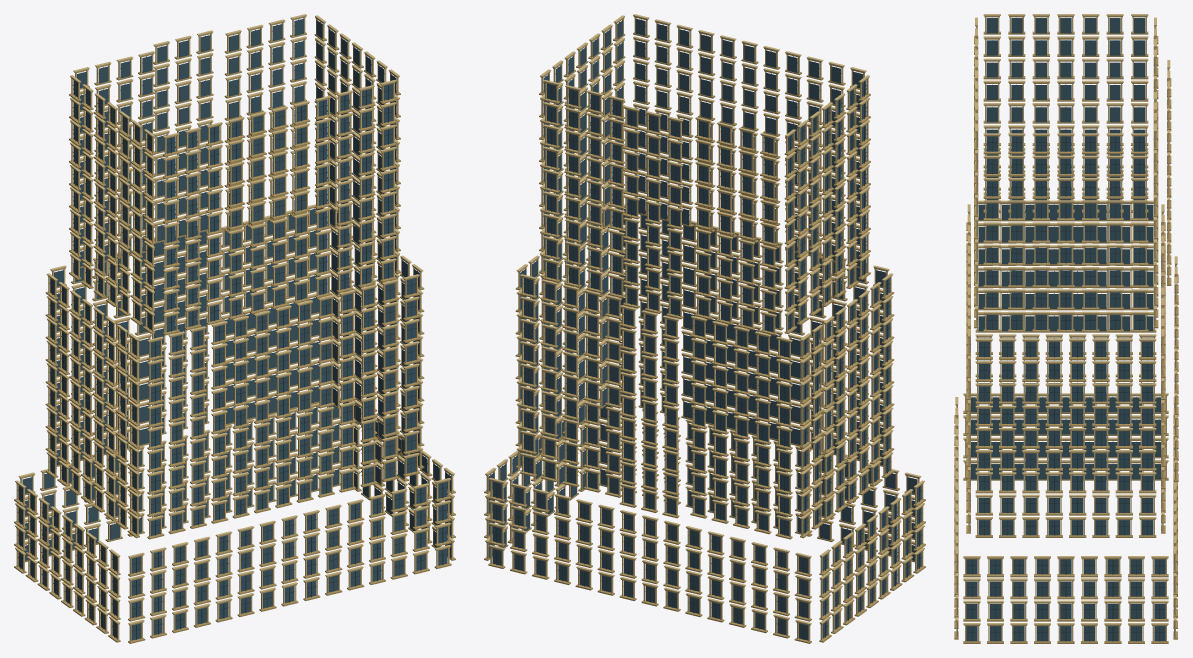
The model's file is KOL_T1_ROYAL__02_Window_Bays.fbx.
3 renders of one model, left to right at view 1: azimuth 30°, elevation 25°; view 2: azimuth 150°, elevation 25°; view 3: azimuth 270°, elevation 25°, orthographic.
Parts seen in each view (by area): view 1: KOL_T1_ROYAL__02_Window_Bays__KOL_T1_Glass, KOL_T1_ROYAL__02_Window_Bays__KOL_T1_Glass.001, KOL_T1_ROYAL__02_Window_Bays__KOL_T1_RoyalTrim.002, KOL_T1_ROYAL__02_Window_Bays__KOL_T1_RoyalTrim.004, KOL_T1_ROYAL__02_Window_Bays__KOL_T1_RoyalTrim, KOL_T1_ROYAL__02_Window_Bays__KOL_T1_RoyalOchre.001, KOL_T1_ROYAL__02_Window_Bays__KOL_T1_RoyalOchre.003, KOL_T1_ROYAL__02_Window_Bays__KOL_T1_RoyalTrim.005, KOL_T1_ROYAL__02_Window_Bays__KOL_T1_RoyalOchre, KOL_T1_ROYAL__02_Window_Bays__KOL_T1_RoyalTrim.003, KOL_T1_ROYAL__02_Window_Bays__KOL_T1_RoyalOchre.002, KOL_T1_ROYAL__02_Window_Bays__KOL_T1_RoyalTrim.001 (+4 smaller); view 2: KOL_T1_ROYAL__02_Window_Bays__KOL_T1_Glass, KOL_T1_ROYAL__02_Window_Bays__KOL_T1_Glass.001, KOL_T1_ROYAL__02_Window_Bays__KOL_T1_RoyalTrim.004, KOL_T1_ROYAL__02_Window_Bays__KOL_T1_RoyalTrim.001, KOL_T1_ROYAL__02_Window_Bays__KOL_T1_RoyalTrim, KOL_T1_ROYAL__02_Window_Bays__KOL_T1_RoyalOchre.001, KOL_T1_ROYAL__02_Window_Bays__KOL_T1_RoyalOchre, KOL_T1_ROYAL__02_Window_Bays__KOL_T1_RoyalTrim.002, KOL_T1_ROYAL__02_Window_Bays__KOL_T1_RoyalOchre.002, KOL_T1_ROYAL__02_Window_Bays__KOL_T1_RoyalTrim.003, KOL_T1_ROYAL__02_Window_Bays__KOL_T1_RoyalTrim.005, KOL_T1_ROYAL__02_Window_Bays__KOL_T1_RoyalOchre.003 (+4 smaller); view 3: KOL_T1_ROYAL__02_Window_Bays__KOL_T1_Glass.001, KOL_T1_ROYAL__02_Window_Bays__KOL_T1_Glass, KOL_T1_ROYAL__02_Window_Bays__KOL_T1_RoyalOchre.003, KOL_T1_ROYAL__02_Window_Bays__KOL_T1_RoyalTrim.003, KOL_T1_ROYAL__02_Window_Bays__KOL_T1_RoyalOchre.002, KOL_T1_ROYAL__02_Window_Bays__KOL_T1_RoyalTrim.005, KOL_T1_ROYAL__02_Window_Bays__KOL_T1_RoyalOchre, KOL_T1_ROYAL__02_Window_Bays__KOL_T1_RoyalTrim.004, KOL_T1_ROYAL__02_Window_Bays__KOL_T1_RoyalTrim.001, KOL_T1_ROYAL__02_Window_Bays__KOL_T1_RoyalOchre.001, KOL_T1_ROYAL__02_Window_Bays__KOL_T1_RoyalTrim, KOL_T1_ROYAL__02_Window_Bays__KOL_T1_RoyalTrim.002 (+3 smaller).
Boxes of the visible parts, bbox=[...] form: KOL_T1_ROYAL__02_Window_Bays__KOL_T1_Glass: bbox=[18, 208, 451, 640]; KOL_T1_ROYAL__02_Window_Bays__KOL_T1_Glass.001: bbox=[73, 18, 419, 466]; KOL_T1_ROYAL__02_Window_Bays__KOL_T1_RoyalTrim.002: bbox=[46, 204, 419, 537]; KOL_T1_ROYAL__02_Window_Bays__KOL_T1_RoyalTrim.004: bbox=[70, 14, 396, 333]; KOL_T1_ROYAL__02_Window_Bays__KOL_T1_RoyalTrim: bbox=[15, 398, 451, 641]; KOL_T1_ROYAL__02_Window_Bays__KOL_T1_RoyalOchre.001: bbox=[45, 207, 420, 539]; KOL_T1_ROYAL__02_Window_Bays__KOL_T1_RoyalOchre.003: bbox=[69, 17, 400, 335]; KOL_T1_ROYAL__02_Window_Bays__KOL_T1_RoyalTrim.005: bbox=[163, 15, 399, 288]; KOL_T1_ROYAL__02_Window_Bays__KOL_T1_RoyalOchre: bbox=[14, 350, 455, 643]; KOL_T1_ROYAL__02_Window_Bays__KOL_T1_RoyalTrim.003: bbox=[73, 143, 423, 466]; KOL_T1_ROYAL__02_Window_Bays__KOL_T1_RoyalOchre.002: bbox=[69, 16, 424, 468]; KOL_T1_ROYAL__02_Window_Bays__KOL_T1_RoyalTrim.001: bbox=[50, 225, 454, 574]; KOL_T1_ROYAL__02_Window_Bays__KOL_T1_Glass: bbox=[488, 275, 921, 640]; KOL_T1_ROYAL__02_Window_Bays__KOL_T1_Glass.001: bbox=[520, 18, 885, 466]; KOL_T1_ROYAL__02_Window_Bays__KOL_T1_RoyalTrim.004: bbox=[543, 75, 869, 331]; KOL_T1_ROYAL__02_Window_Bays__KOL_T1_RoyalTrim.001: bbox=[485, 295, 921, 558]; KOL_T1_ROYAL__02_Window_Bays__KOL_T1_RoyalTrim: bbox=[488, 398, 924, 641]; KOL_T1_ROYAL__02_Window_Bays__KOL_T1_RoyalOchre.001: bbox=[519, 274, 894, 538]; KOL_T1_ROYAL__02_Window_Bays__KOL_T1_RoyalOchre: bbox=[484, 400, 925, 643]; KOL_T1_ROYAL__02_Window_Bays__KOL_T1_RoyalTrim.002: bbox=[520, 271, 893, 535]; KOL_T1_ROYAL__02_Window_Bays__KOL_T1_RoyalOchre.002: bbox=[515, 82, 888, 468]; KOL_T1_ROYAL__02_Window_Bays__KOL_T1_RoyalTrim.003: bbox=[516, 204, 889, 466]; KOL_T1_ROYAL__02_Window_Bays__KOL_T1_RoyalTrim.005: bbox=[540, 14, 866, 272]; KOL_T1_ROYAL__02_Window_Bays__KOL_T1_RoyalOchre.003: bbox=[539, 16, 870, 289]; KOL_T1_ROYAL__02_Window_Bays__KOL_T1_Glass.001: bbox=[970, 18, 1167, 535]; KOL_T1_ROYAL__02_Window_Bays__KOL_T1_Glass: bbox=[957, 204, 1175, 641]; KOL_T1_ROYAL__02_Window_Bays__KOL_T1_RoyalOchre.003: bbox=[974, 16, 1148, 332]; KOL_T1_ROYAL__02_Window_Bays__KOL_T1_RoyalTrim.003: bbox=[967, 186, 1170, 535]; KOL_T1_ROYAL__02_Window_Bays__KOL_T1_RoyalOchre.002: bbox=[966, 26, 1171, 537]; KOL_T1_ROYAL__02_Window_Bays__KOL_T1_RoyalTrim.005: bbox=[975, 17, 1148, 330]; KOL_T1_ROYAL__02_Window_Bays__KOL_T1_RoyalOchre: bbox=[954, 391, 1178, 643]; KOL_T1_ROYAL__02_Window_Bays__KOL_T1_RoyalTrim.004: bbox=[975, 14, 1170, 326]; KOL_T1_ROYAL__02_Window_Bays__KOL_T1_RoyalTrim.001: bbox=[955, 204, 1177, 641]; KOL_T1_ROYAL__02_Window_Bays__KOL_T1_RoyalOchre.001: bbox=[966, 202, 1178, 533]; KOL_T1_ROYAL__02_Window_Bays__KOL_T1_RoyalTrim: bbox=[955, 393, 1176, 637]; KOL_T1_ROYAL__02_Window_Bays__KOL_T1_RoyalTrim.002: bbox=[967, 200, 1164, 531].
Size of the model in its own units: 159 by 219 by 91.4.
